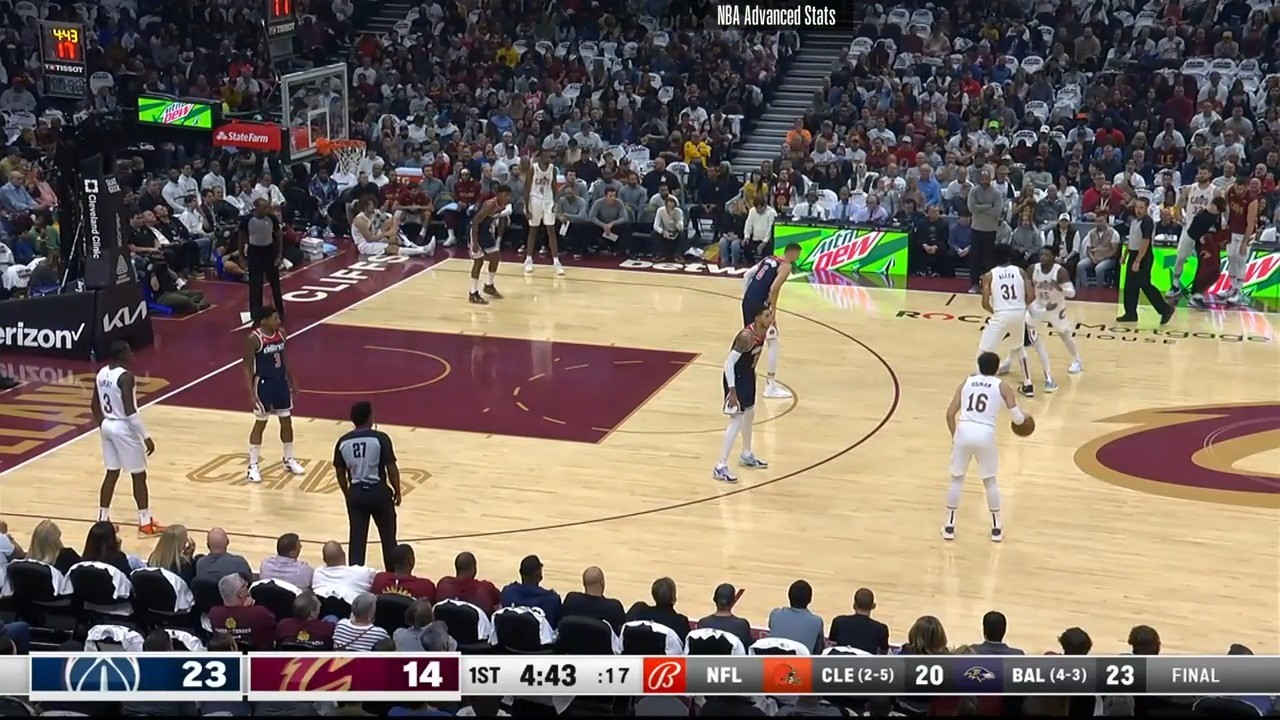net: (318, 133, 373, 180)
player: (938, 347, 1033, 545), (90, 340, 164, 539), (738, 237, 806, 402), (713, 308, 776, 486), (245, 308, 308, 481), (974, 249, 1046, 399), (1017, 245, 1084, 385), (1163, 166, 1225, 317), (461, 185, 510, 306), (522, 155, 565, 279)
referee: (336, 400, 413, 571), (1114, 197, 1171, 332), (236, 199, 289, 330)
